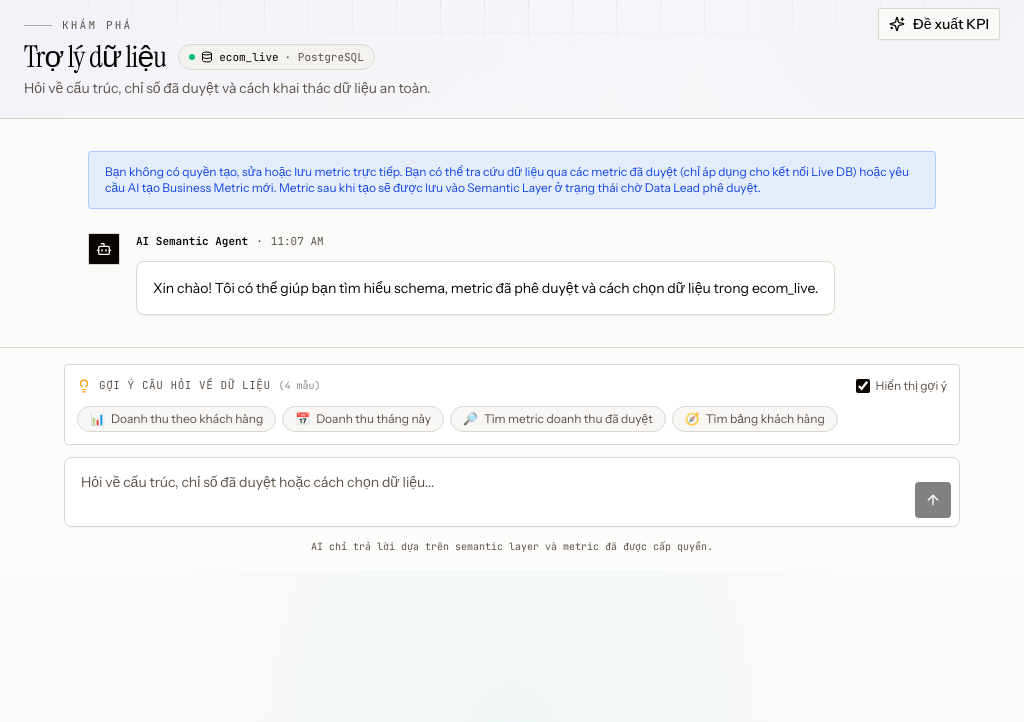
Test case: AIStudioView › shows clarification options for semantic_query and sends the selection
In the text box with placeholder "Hỏi về cấu trúc, chỉ số đã duyệt hoặc cách chọn dữ liệu...": point(490, 492) [73, 466, 907, 518], type "Doanh thu"
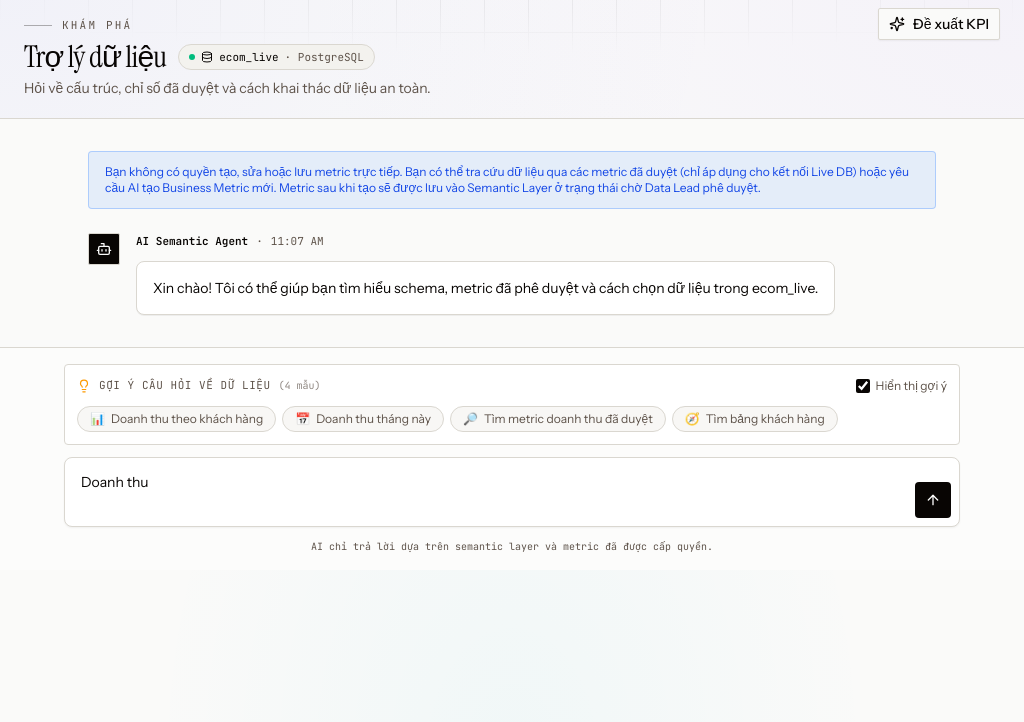
Click the button named "Gửi tin nhắn": point(933, 500) [915, 482, 951, 518]
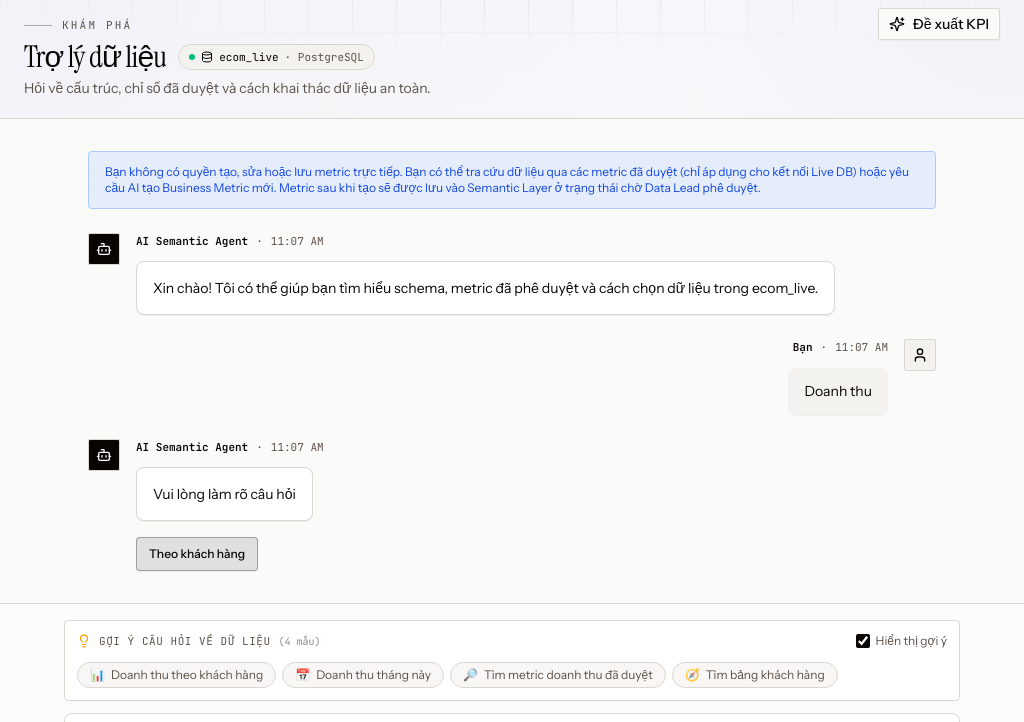
Expected: the text "Doanh thu theo khách hàng" is shown, [111, 666, 263, 682]
Click the button "Theo khách hàng": point(197, 554) [136, 537, 258, 571]
(page scrolled)
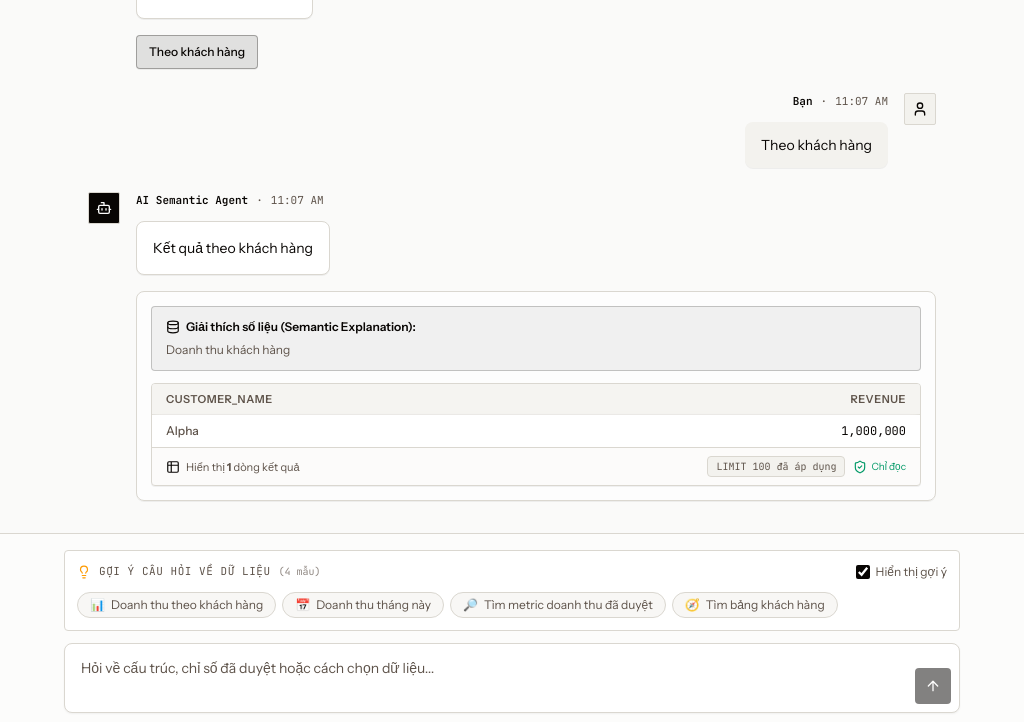
Result: the text "Alpha" is shown at [152, 415, 607, 447]
Result: the text "1,000,000" is shown at [607, 415, 920, 447]
